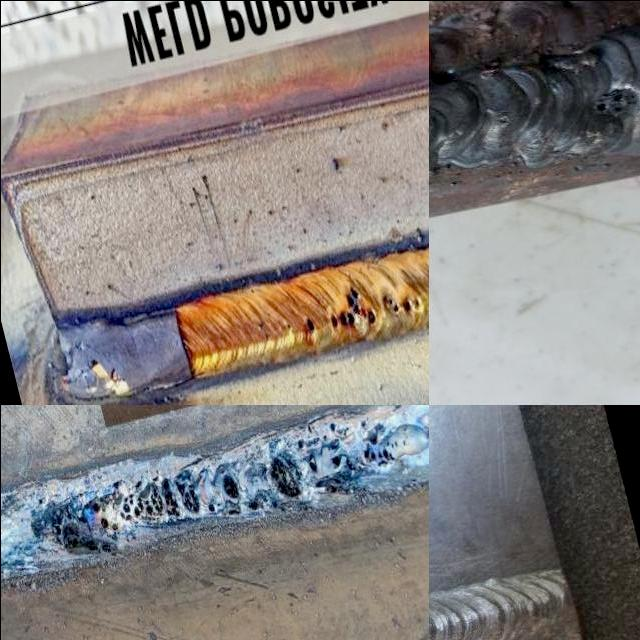defect: (45, 465, 199, 557), (325, 278, 378, 334), (357, 415, 411, 469), (586, 83, 640, 124), (265, 452, 304, 501), (218, 475, 241, 517), (381, 292, 421, 315), (309, 476, 343, 502), (329, 452, 357, 474), (494, 107, 514, 126), (255, 321, 270, 343), (301, 312, 314, 335), (306, 451, 318, 475), (246, 498, 256, 513), (204, 503, 217, 514), (283, 321, 293, 335), (304, 420, 312, 435), (327, 421, 335, 434), (340, 424, 348, 437), (320, 430, 327, 444), (295, 437, 303, 449), (270, 498, 275, 510), (36, 499, 44, 506)
